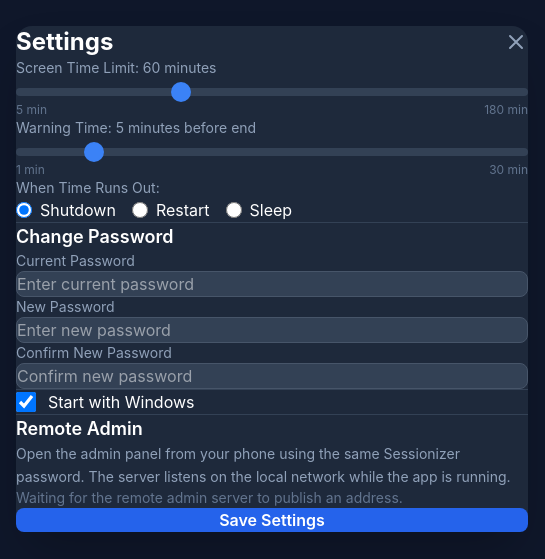
Test case: re-authenticates after settings authorization expires and saves the preserved edits
Expected: the button "Save Settings" is enabled, [16, 508, 528, 532]
Step 1. Set the slider below "Screen Time Limit:" to "90" → (265, 92), box [16, 88, 528, 96]
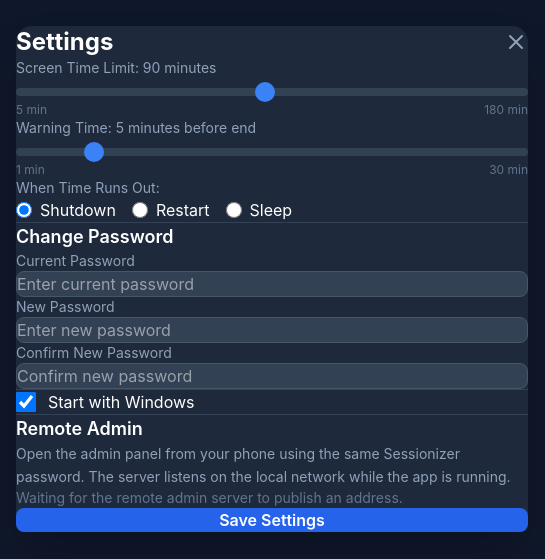
Step 2. Click the button "Save Settings" → (272, 520), box [16, 508, 528, 532]
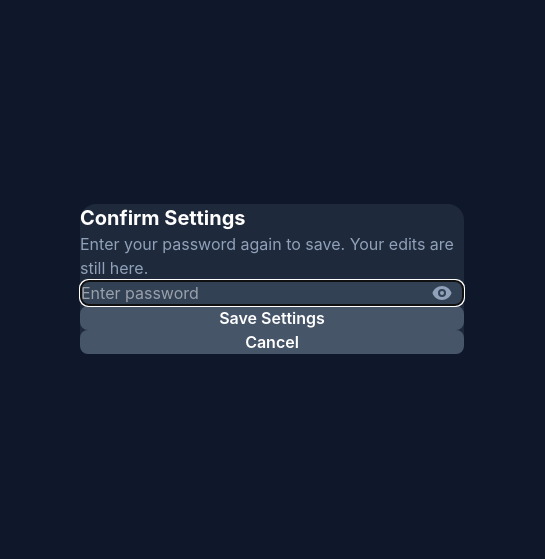
Step 3. Type "parent-secret" into the password field with placeholder "Enter password" → (272, 293), box [80, 280, 464, 306]
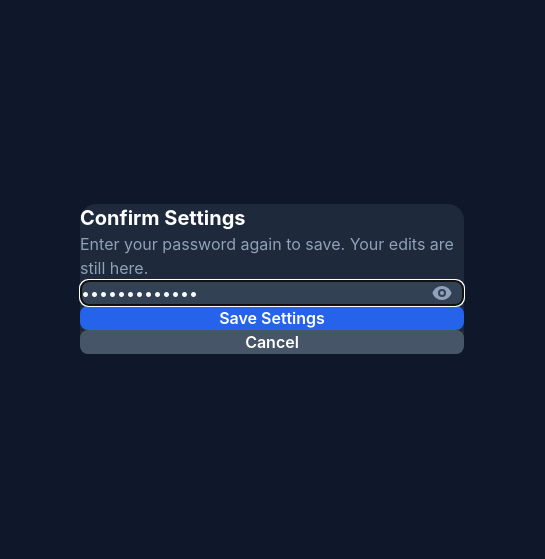
Step 4. Submit the form with placeholder "Enter password", box [80, 280, 464, 354]
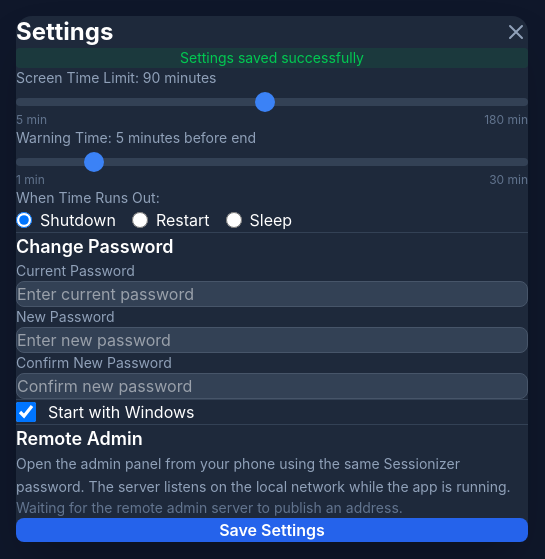
Expected: the text "Settings saved successfully" is shown, [16, 48, 528, 68]
